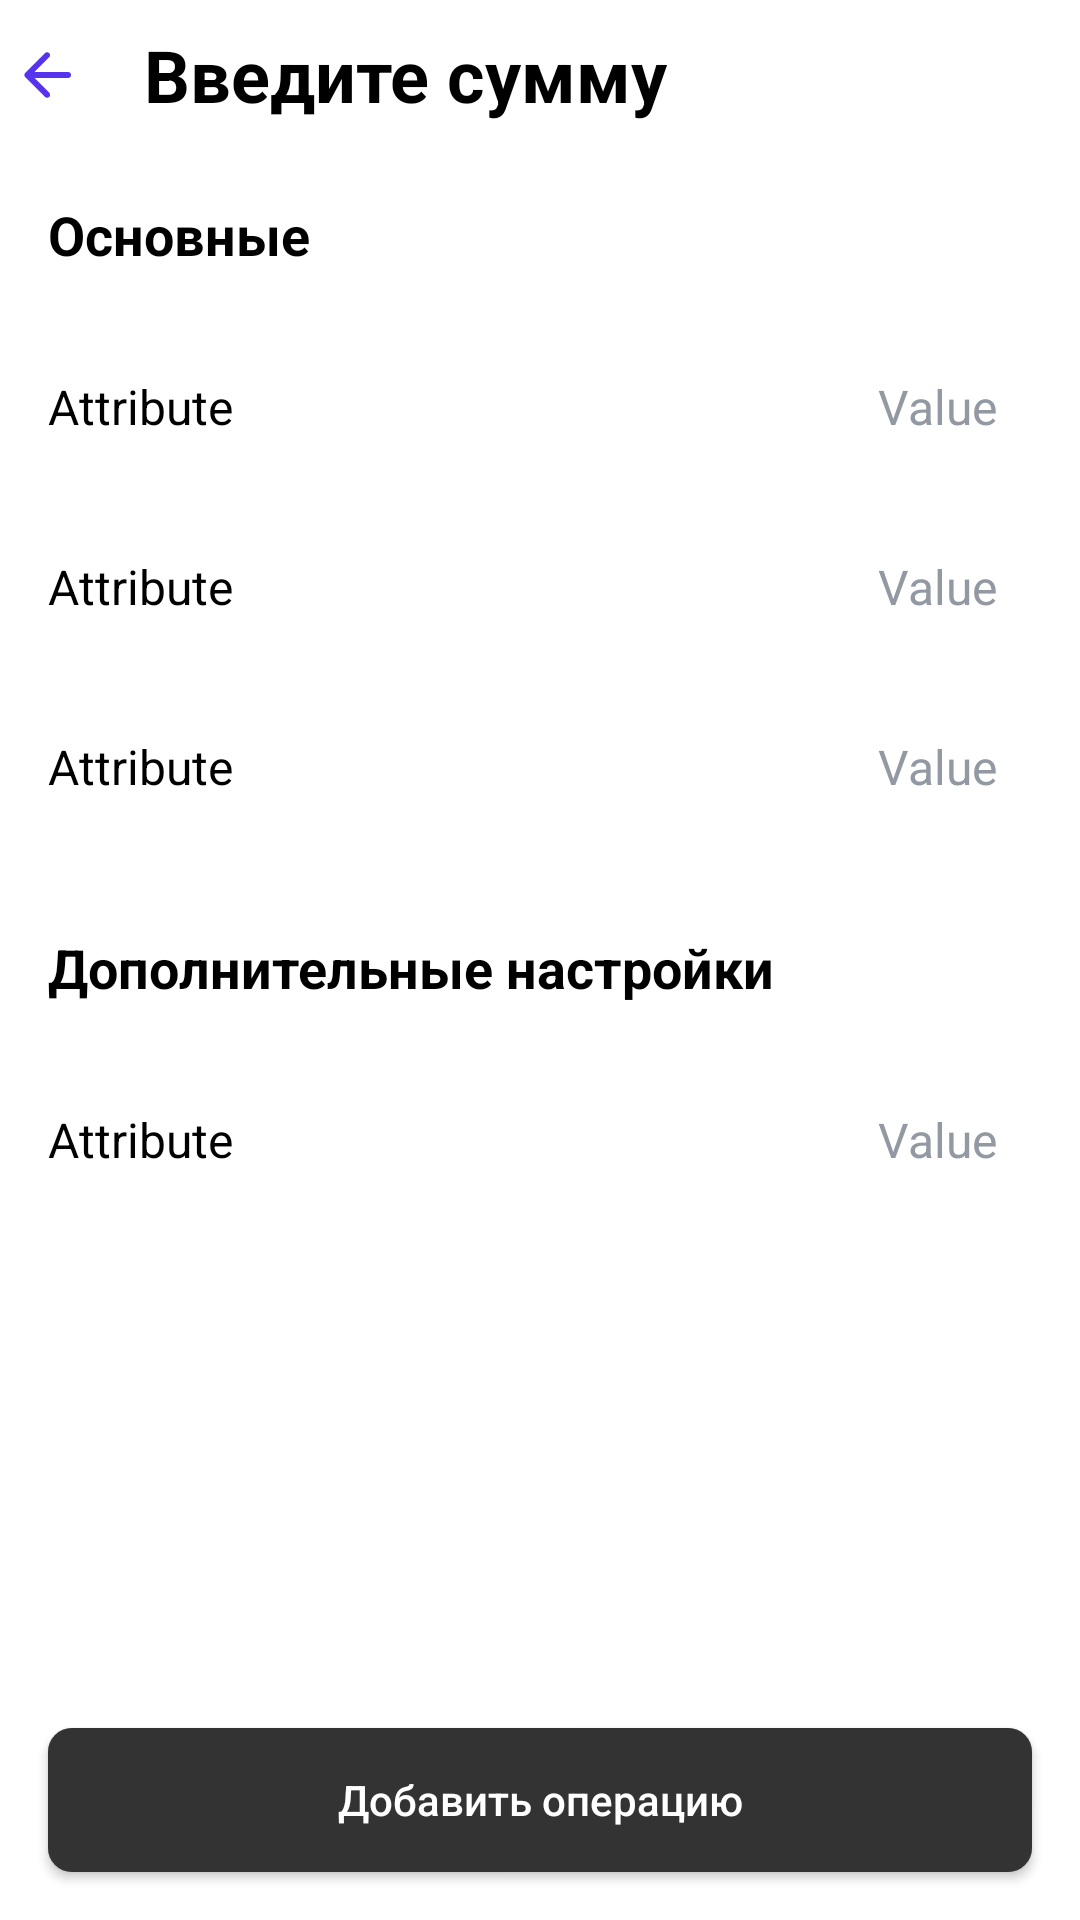

Icon click points for this 1080w x 1920h phone screenshot, format (x,y):
back arrow: (47,75)
